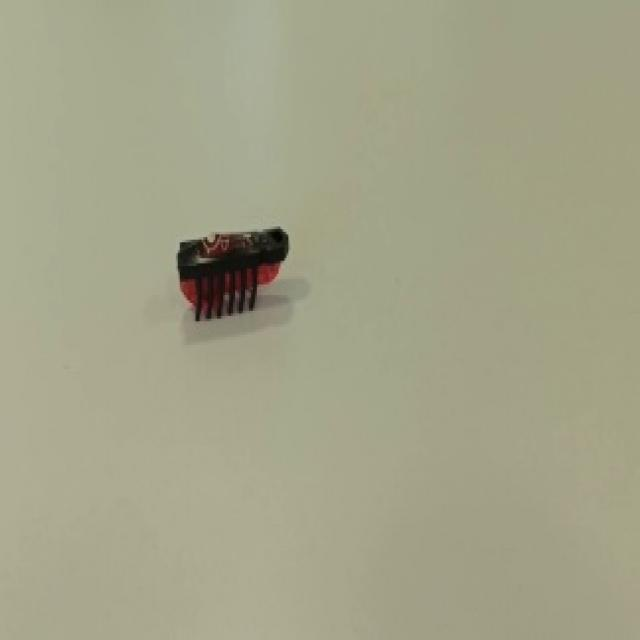2_NanoBug_Negro: (139, 193, 328, 366)
